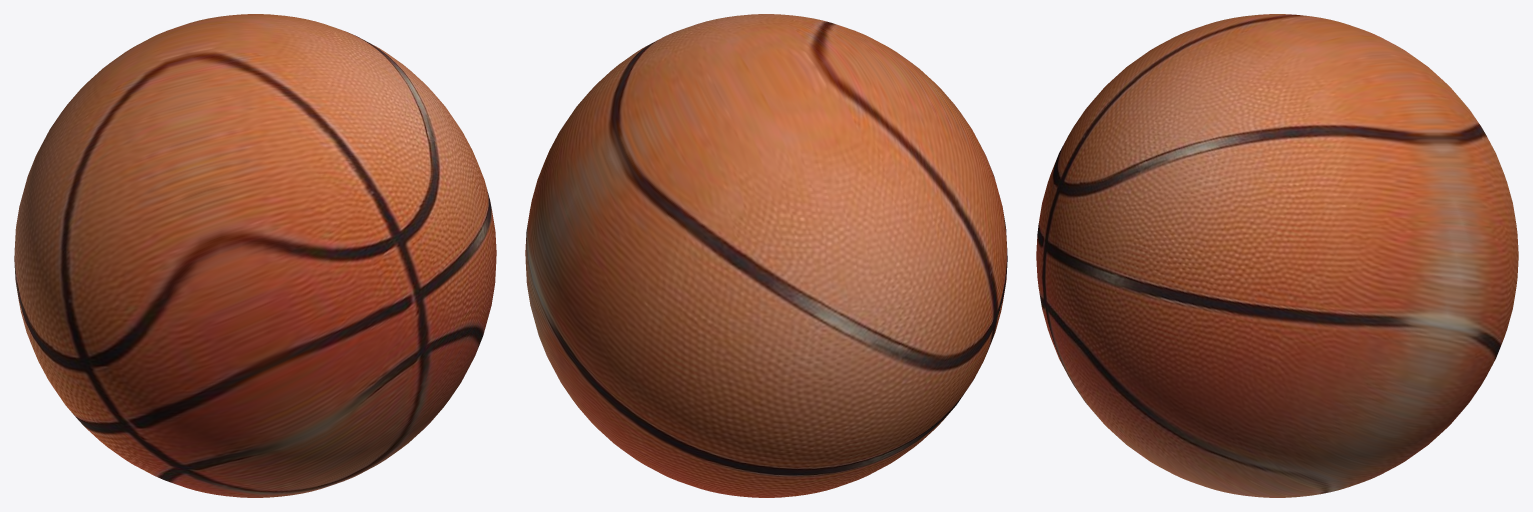
The model's file is Basketball.dae.
3 renders of one model, left to right at view 1: azimuth 30°, elevation 25°; view 2: azimuth 150°, elevation 25°; view 3: azimuth 270°, elevation 25°, orthographic.
Visible parts, largest first — view 1: Basketball; view 2: Basketball; view 3: Basketball.
Boxes of the visible parts, box(x1,y1,x2,y2) form: Basketball: box(14, 14, 496, 497); Basketball: box(525, 14, 1007, 497); Basketball: box(1036, 14, 1518, 497).
Size of what is drawn, in the model's own units: 1.98 by 1.98 by 2.
1 material, 1 textured.
